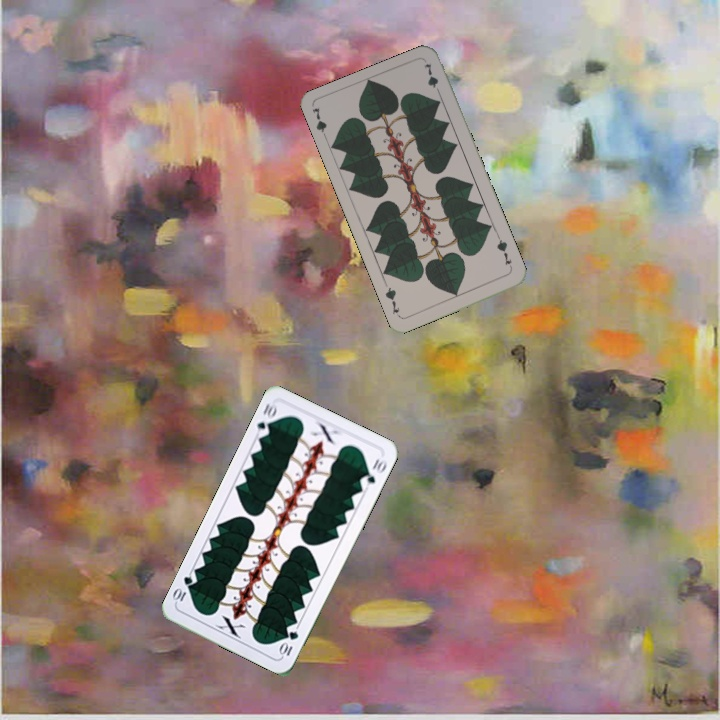G10: (253, 399, 280, 440), (276, 626, 301, 659)
G7: (308, 103, 330, 144), (493, 233, 514, 268)
